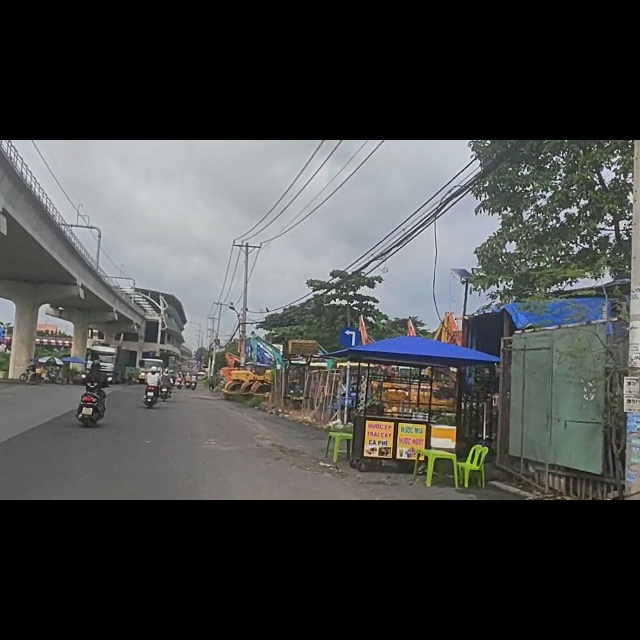bien_hieu_lenh: (339, 331, 361, 369)
